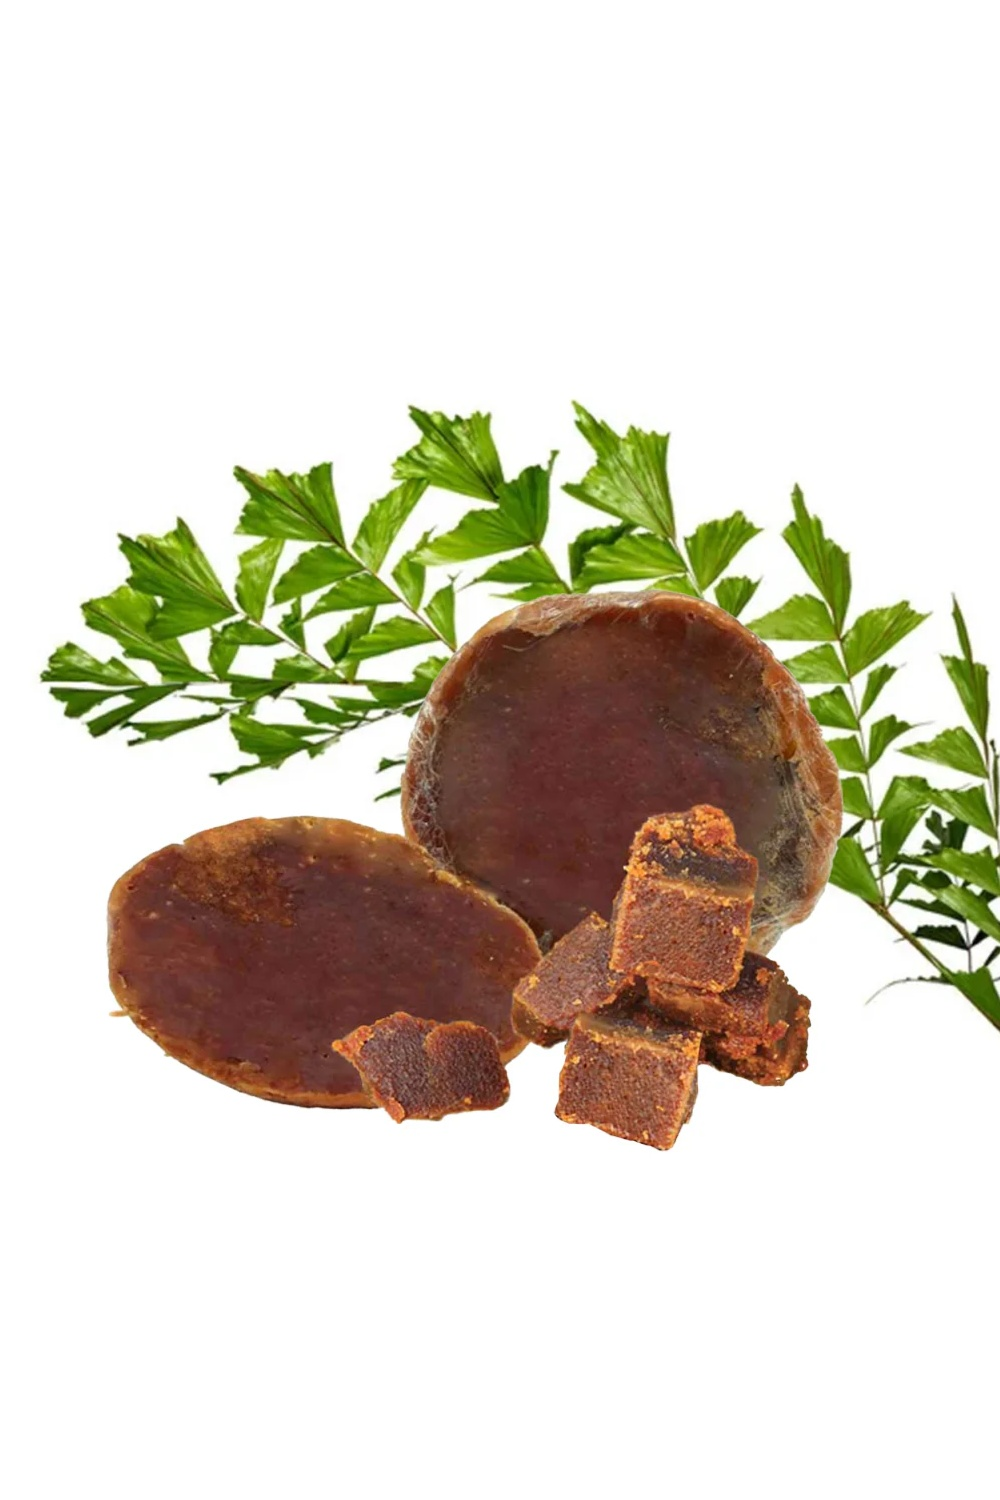hakuru: (396, 586, 849, 975), (84, 811, 540, 1114)
